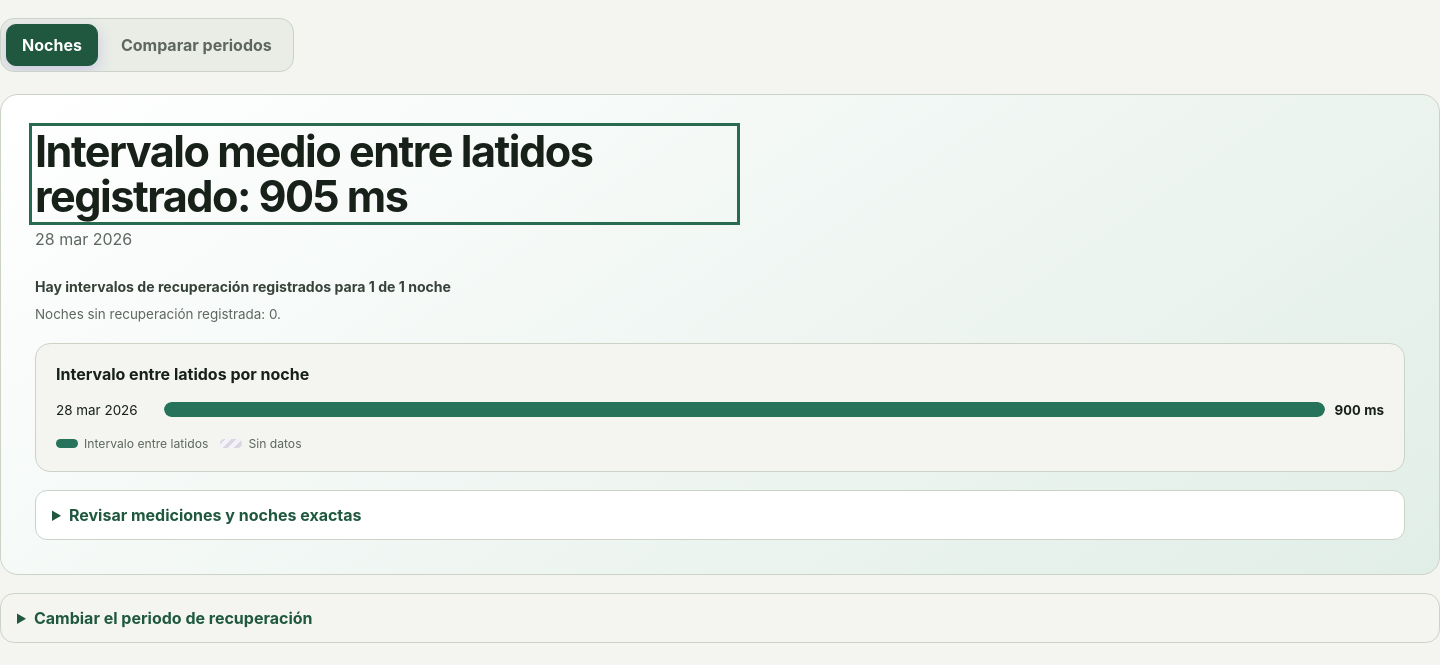
RecoveryInsightsPanel › pluralizes one-night recovery coverage in es-ES
(page scrolled)
Expected: the text "Hay intervalos de recuperación registrados para 1 de 1 noche" is shown, [35,278,451,295]
Click the heading "Revisar mediciones y noches exactas" at (215, 515), box [69,505,362,525]
(page scrolled)
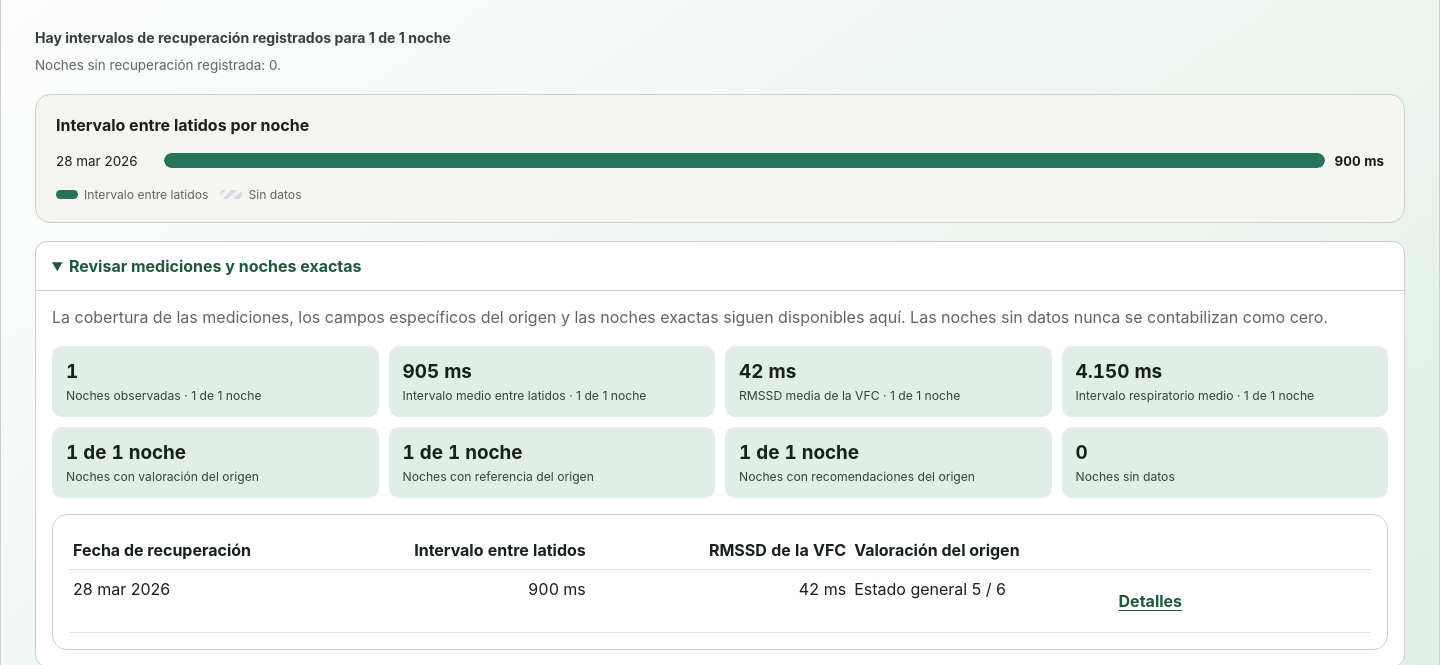
Result: the text "Noches observadas · 1 de 1 noche" is shown at [66,388,262,403]
